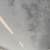zebra: (9, 1, 49, 41)
